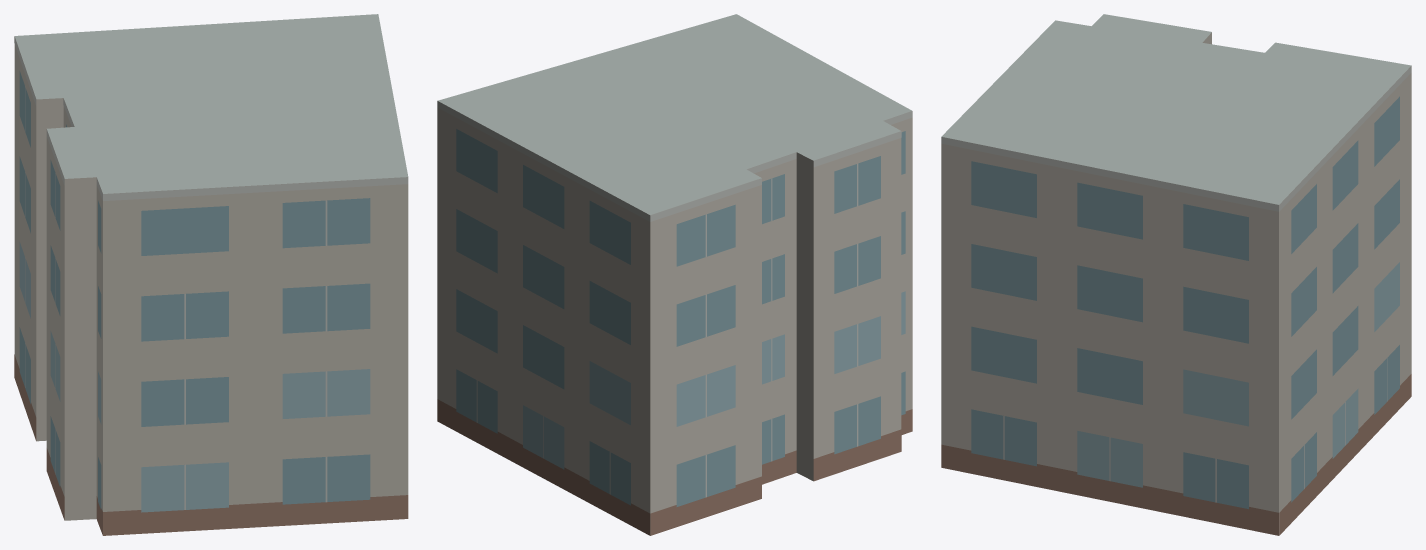
File: survey-upis-32678035.glb
3 renders of one model, left to right at view 1: azimuth 30°, elevation 25°; view 2: azimuth 150°, elevation 25°; view 3: azimuth 270°, elevation 25°, orthographic. The views are drawn at different scales.
Visible parts, largest first — view 1: survey-upis-32678035.tmp; view 2: survey-upis-32678035.tmp; view 3: survey-upis-32678035.tmp.
Boxes of the visible parts, x1,y1,x2,y2 form: survey-upis-32678035.tmp: (14,14,408,535); survey-upis-32678035.tmp: (437,14,912,535); survey-upis-32678035.tmp: (941,14,1411,535).
Size of the model in its own units: 14.49 by 11.7 by 15.08.
